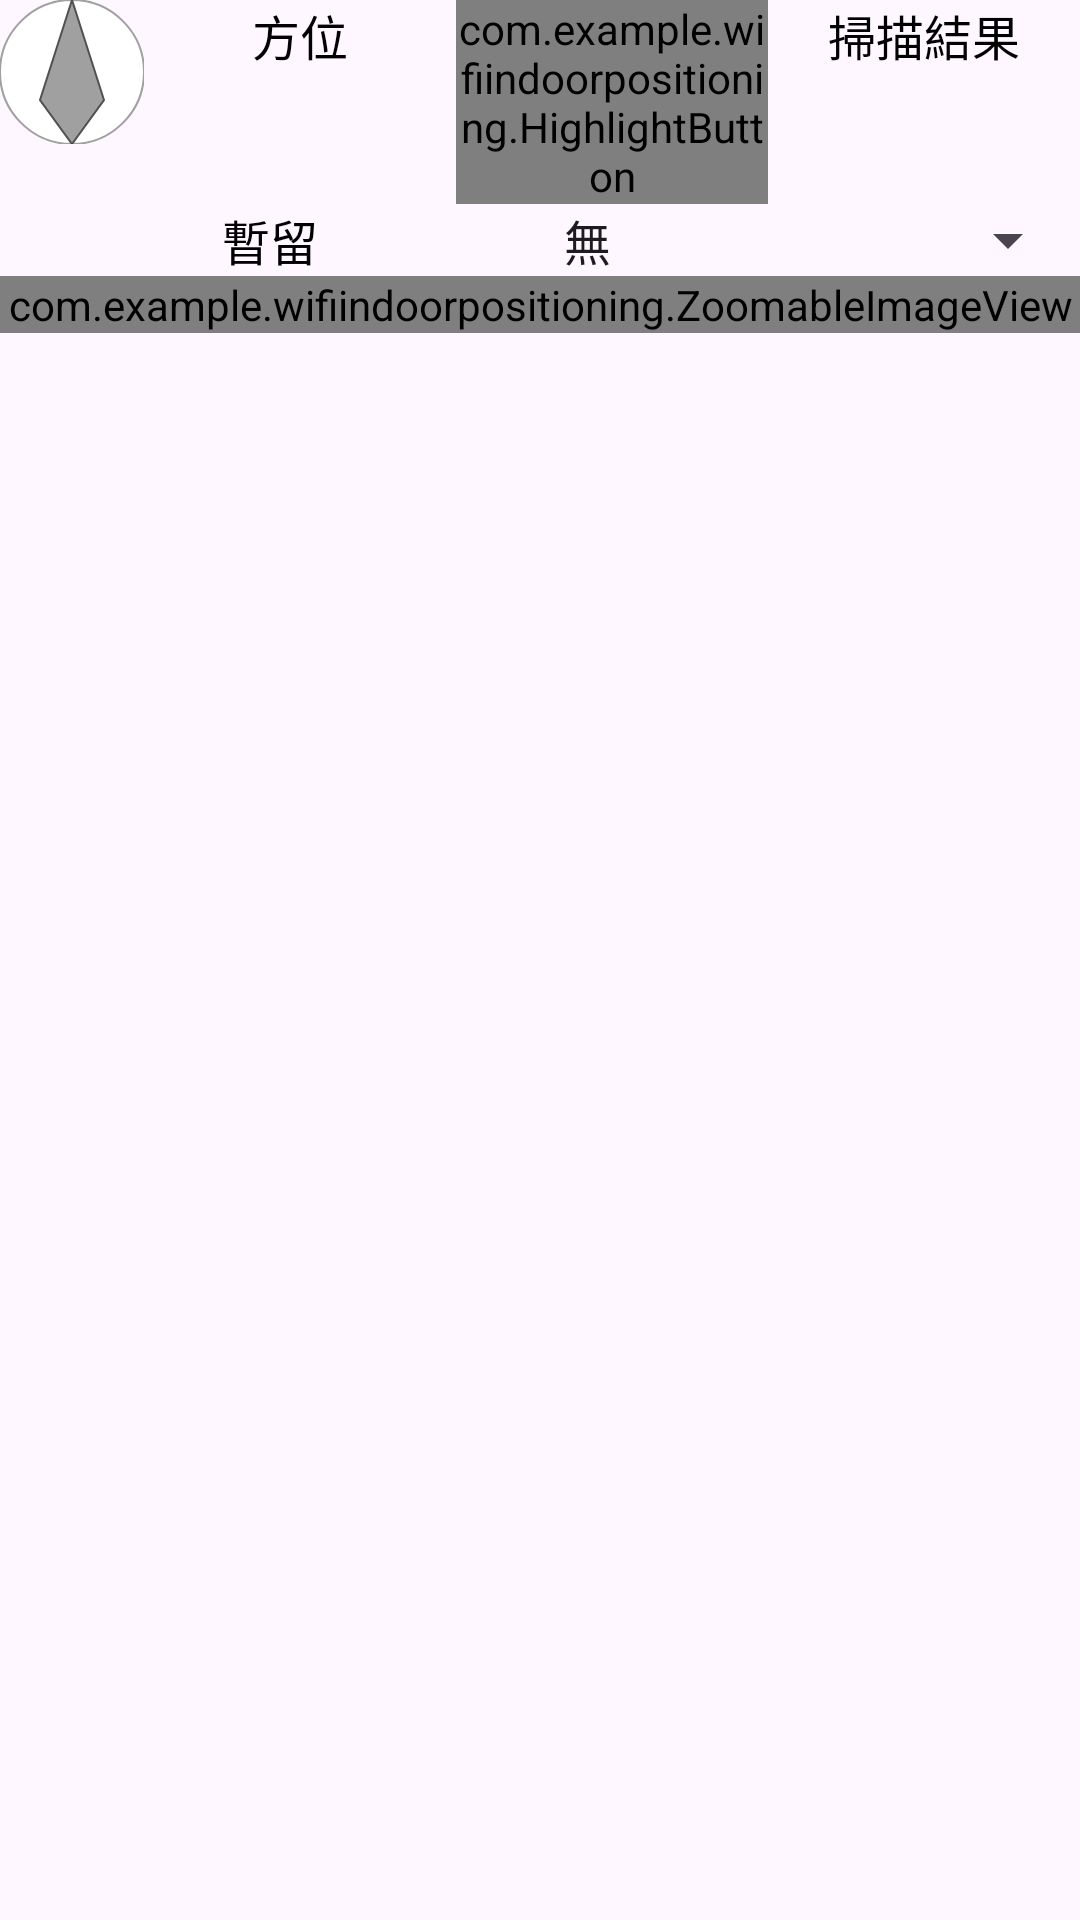

Icon click points for this 1080px×1920px phone screenshot, format (x,y):
compass arrow: (72,72)
